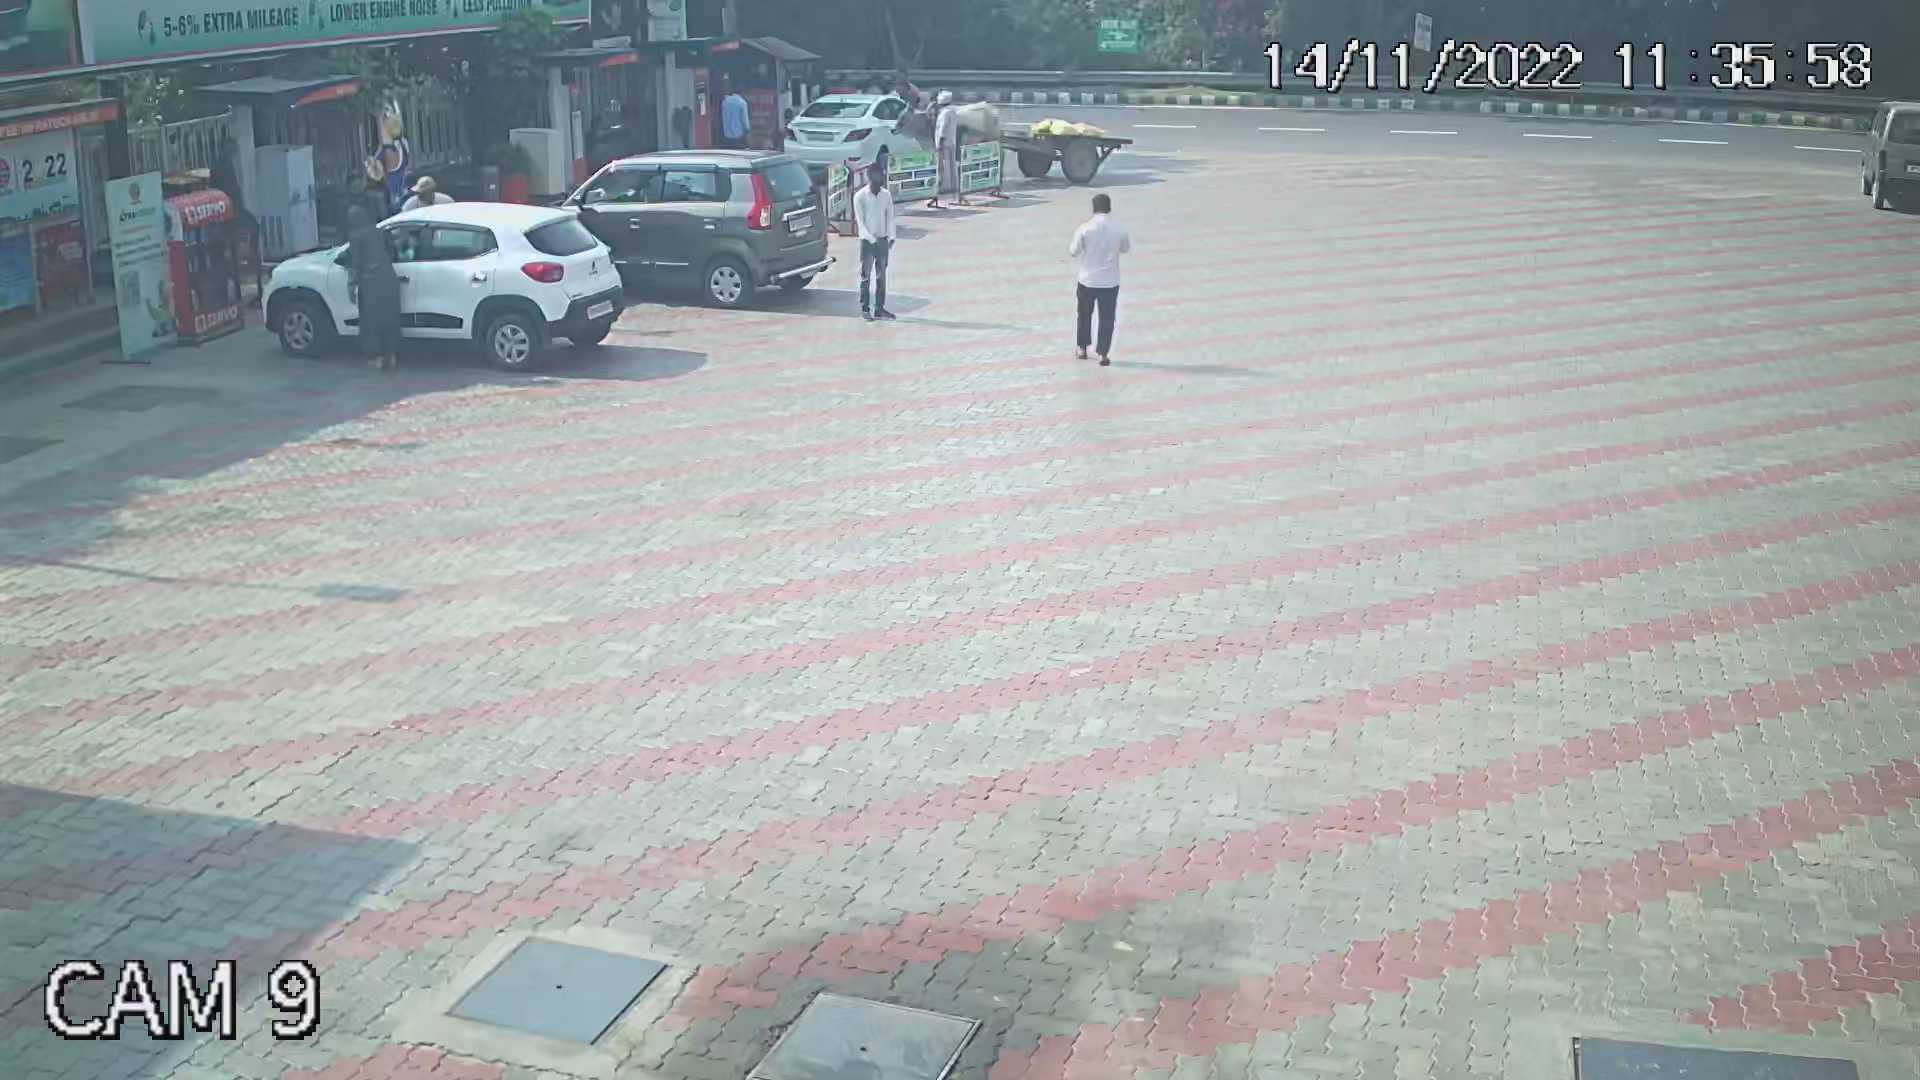Car: (264, 189, 638, 375), (546, 135, 857, 309), (1840, 86, 1920, 272), (779, 86, 931, 161)
